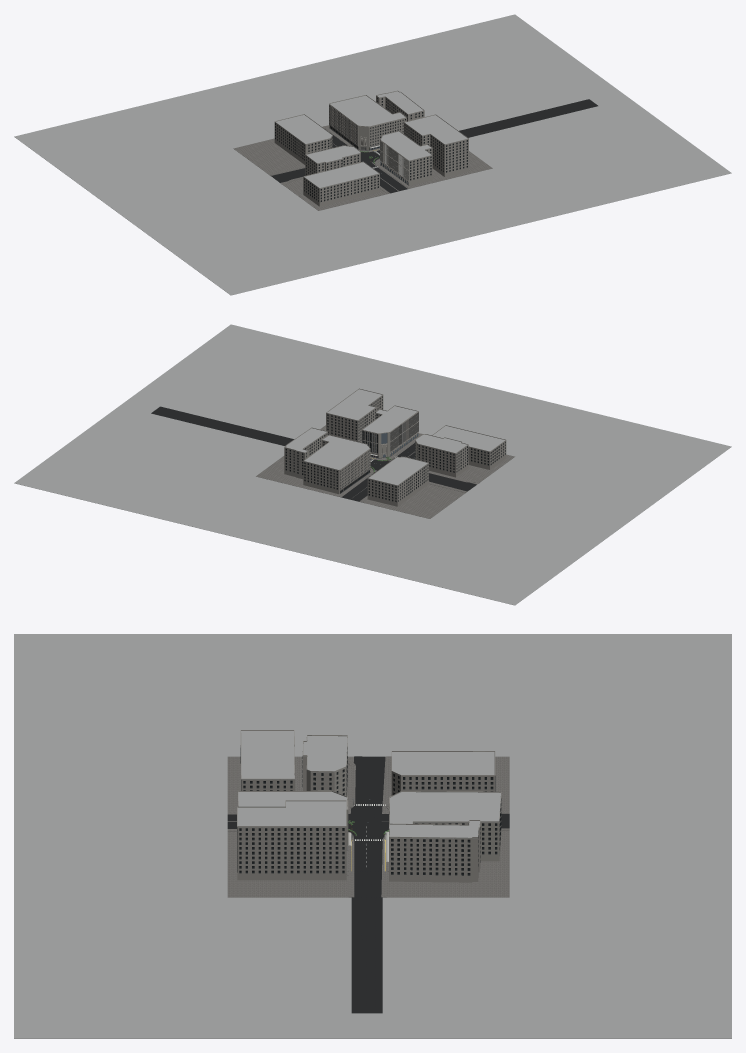
Rendered from shijo-block.glb.
3 views of the same model, one above another, from view 1: azimuth 30°, elevation 25°; view 2: azimuth 150°, elevation 25°; view 3: azimuth 270°, elevation 25° (orthographic). The views are drawn at different scales.
Parts seen in each view (by area): view 1: Context_concrete, Context_pavement, Context_asphalt, ContextBuilding_205732545_pale-stone, ContextBuilding_205732486_pale-stone, NorthUpper_pale-stone, NorthRoof_concrete, ContextBuilding_344477489_pale-stone, ContextBuilding_205732486_concrete, ContextBuilding_205732545_concrete, ContextBuilding_344477489_concrete, SouthRoof_concrete (+6 smaller); view 2: Context_concrete, Context_pavement, Context_asphalt, ContextBuilding_344477489_pale-stone, NorthRoof_concrete, ContextBuilding_1317905647_pale-stone, ContextBuilding_205732545_pale-stone, SouthUpper_pale-stone, ContextBuilding_205732545_concrete, ContextBuilding_344477489_concrete, NorthShell_pale-stone, ContextBuilding_205732486_concrete (+8 smaller); view 3: Context_concrete, Context_pavement, Context_asphalt, ContextBuilding_205732545_pale-stone, ContextBuilding_205749104_pale-stone, NorthRoof_concrete, ContextBuilding_205732486_concrete, ContextBuilding_205732545_concrete, ContextBuilding_344477489_concrete, ContextBuilding_205732545_glazing, ContextBuilding_344477489_pale-stone, ContextBuilding_1317905647_concrete (+7 smaller).
Boxes of the visible parts, x1,y1,x2,y2 form: Context_concrete: (14, 14, 731, 295); Context_pavement: (233, 125, 492, 210); Context_asphalt: (271, 99, 597, 193); ContextBuilding_205732545_pale-stone: (404, 114, 468, 176); ContextBuilding_205732486_pale-stone: (303, 161, 379, 206); NorthUpper_pale-stone: (329, 104, 406, 150); NorthRoof_concrete: (330, 95, 405, 126); ContextBuilding_344477489_pale-stone: (274, 114, 332, 164); ContextBuilding_205732486_concrete: (304, 162, 379, 188); ContextBuilding_205732545_concrete: (404, 115, 467, 144); ContextBuilding_344477489_concrete: (275, 115, 332, 144); SouthRoof_concrete: (381, 131, 431, 160); Context_concrete: (14, 324, 731, 605); Context_pavement: (256, 425, 514, 518); Context_asphalt: (151, 406, 476, 501); ContextBuilding_344477489_pale-stone: (367, 456, 428, 506); NorthRoof_concrete: (304, 435, 369, 469); ContextBuilding_1317905647_pale-stone: (415, 434, 468, 477); ContextBuilding_205732545_pale-stone: (326, 388, 383, 442); SouthUpper_pale-stone: (362, 411, 418, 458); ContextBuilding_205732545_concrete: (326, 389, 381, 420); ContextBuilding_344477489_concrete: (369, 457, 427, 485); NorthShell_pale-stone: (303, 440, 340, 494); ContextBuilding_205732486_concrete: (433, 426, 504, 451); Context_concrete: (14, 634, 731, 1038); Context_pavement: (227, 756, 509, 897); Context_asphalt: (227, 756, 509, 1013); ContextBuilding_205732545_pale-stone: (237, 800, 346, 880); ContextBuilding_205749104_pale-stone: (388, 820, 480, 882); NorthRoof_concrete: (390, 792, 500, 823); ContextBuilding_205732486_concrete: (241, 731, 294, 779); ContextBuilding_205732545_concrete: (237, 801, 346, 827); ContextBuilding_344477489_concrete: (392, 752, 494, 776); ContextBuilding_205732545_glazing: (237, 827, 344, 873); ContextBuilding_344477489_pale-stone: (391, 751, 495, 795); ContextBuilding_1317905647_concrete: (303, 736, 347, 772).
Bounding box in the file's own units: 560 × 35.37 × 420.
Materials: 25 (6 with a texture image).
